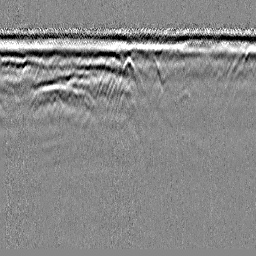cavity: (116, 55, 139, 94)
